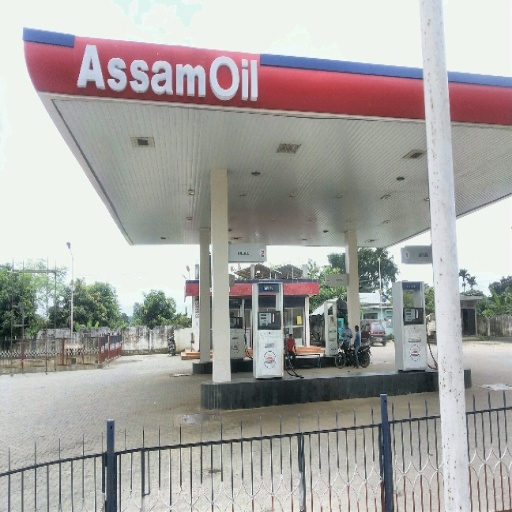roof: (21, 27, 511, 247)
